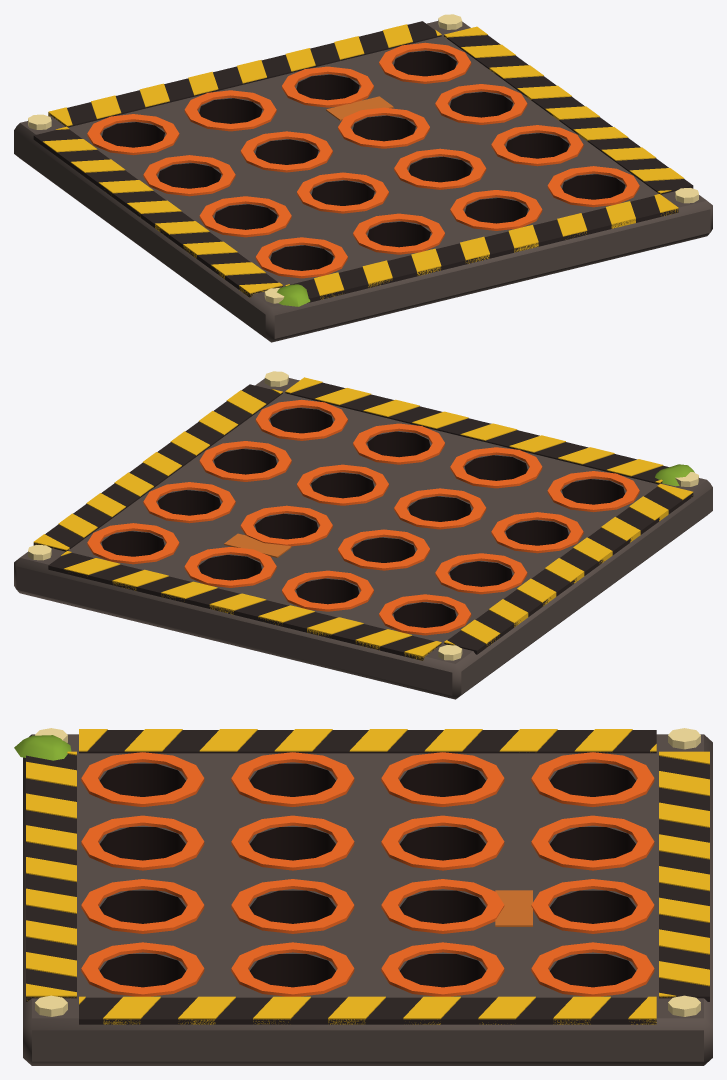
The model's file is trap_spikes__upper.glb.
3 views of the same model, one above another, from view 1: azimuth 30°, elevation 25°; view 2: azimuth 150°, elevation 25°; view 3: azimuth 270°, elevation 25° (orthographic). The views are drawn at different scales.
Parts seen in each view (by area): view 1: Base; view 2: Base; view 3: Base.
Part boxes in pixels (box(x1,y1,x2,y2)): Base: box(14, 14, 712, 342); Base: box(14, 371, 712, 699); Base: box(14, 728, 712, 1065).
Bounding box in the file's own units: 0.92 × 0.0871 × 0.9318.
